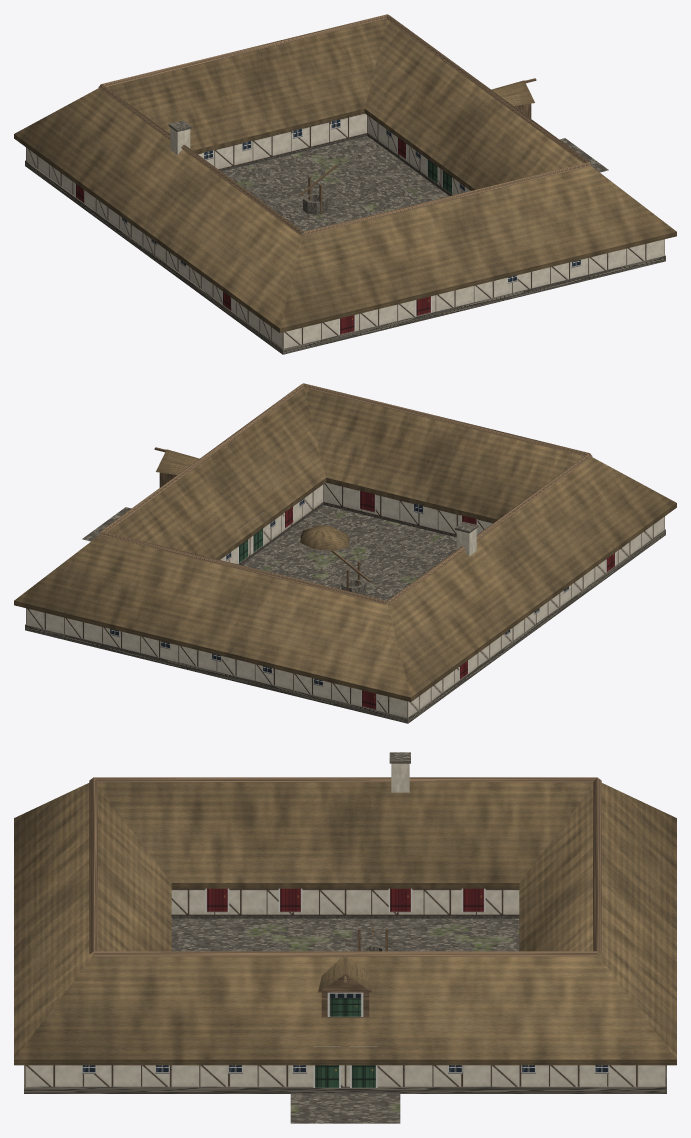
Rendered from SM_Farm.fbx.
The picture shows the model from 3 angles, top to bottom: view 1: azimuth 30°, elevation 25°; view 2: azimuth 150°, elevation 25°; view 3: azimuth 270°, elevation 25°; orthographic projection. The views are drawn at different scales.
Visible parts, largest first — view 1: SM_Farm; view 2: SM_Farm; view 3: SM_Farm.
Boxes of the visible parts, bbox=[...] form: SM_Farm: bbox=[14, 14, 676, 354]; SM_Farm: bbox=[14, 383, 676, 723]; SM_Farm: bbox=[14, 752, 676, 1123].
Bounding box in the file's own units: 3460 × 3620 × 804.
1 material, 1 textured.
